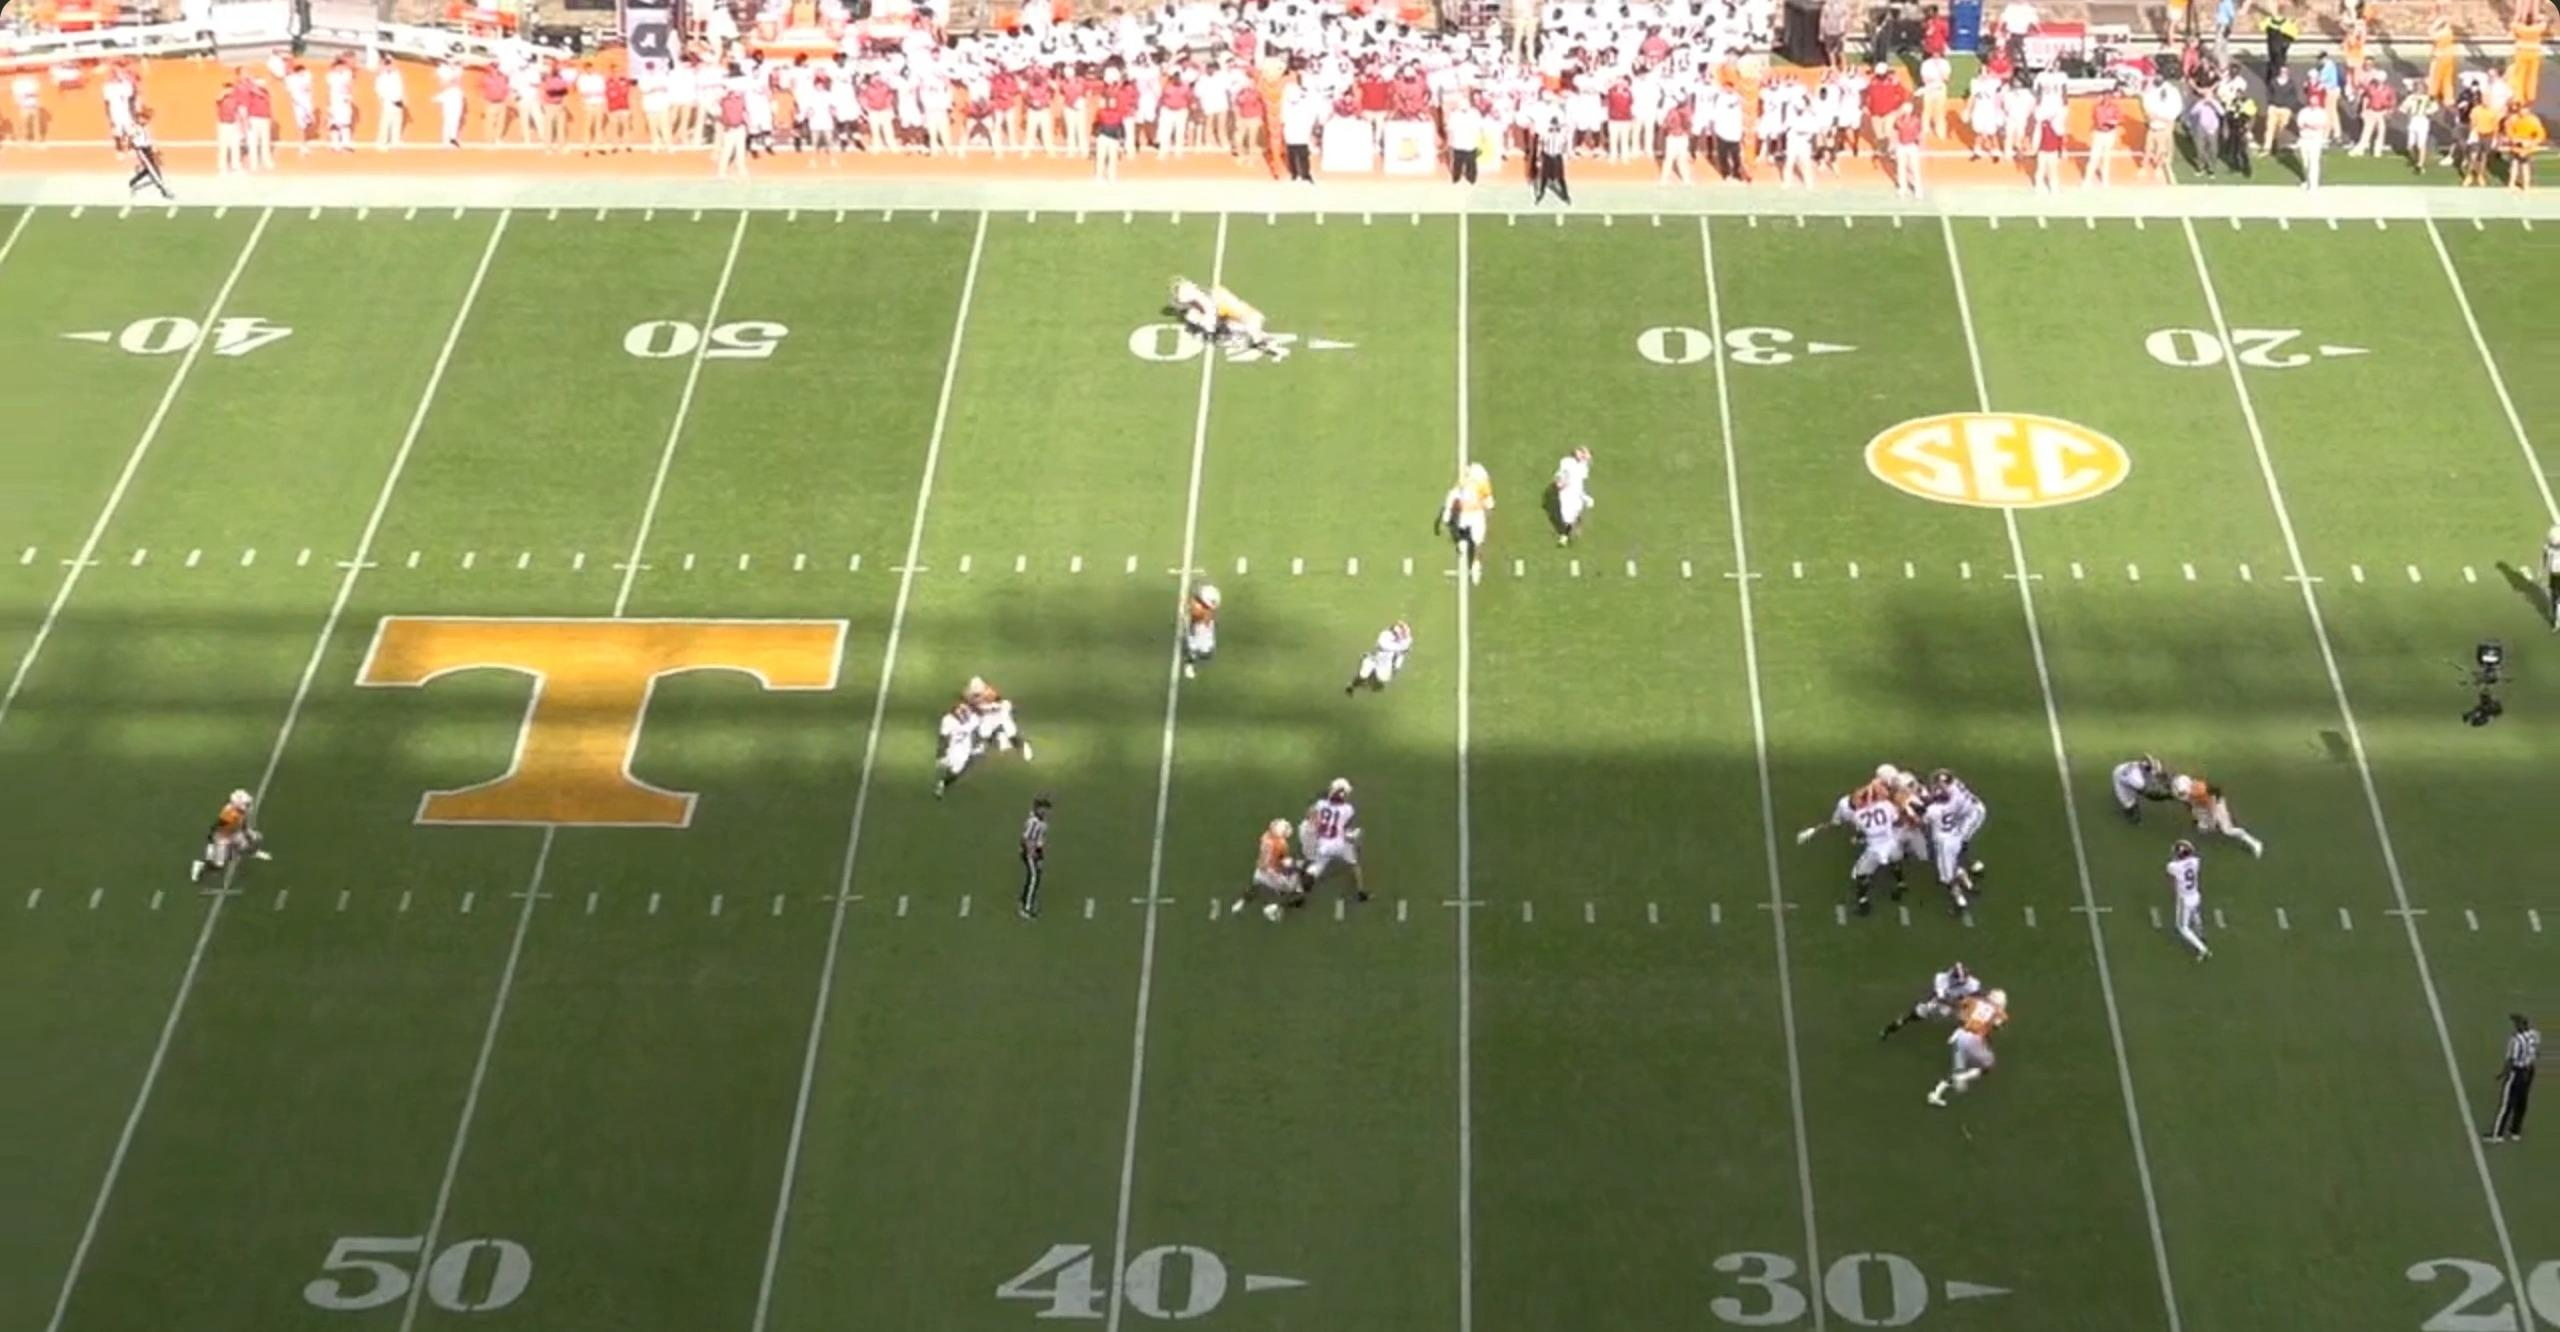defense: (1927, 977, 2017, 1112), (2179, 765, 2279, 861), (1236, 814, 1317, 926), (195, 790, 284, 890), (1439, 464, 1503, 574), (1796, 765, 1895, 836), (1202, 283, 1285, 364), (958, 672, 1029, 765), (1168, 577, 1221, 682), (1888, 768, 1934, 863)
oline: (1878, 956, 1976, 1048), (1903, 790, 1974, 916), (1928, 765, 1998, 883), (1854, 787, 1913, 921), (2106, 751, 2176, 828)
qb: (2159, 839, 2211, 975)
ref: (2487, 1007, 2548, 1146), (1002, 799, 1055, 931), (107, 110, 174, 201), (1524, 112, 1578, 206), (2538, 523, 2560, 645)
skill: (1297, 779, 1378, 911), (1542, 442, 1600, 552), (1339, 618, 1410, 704), (938, 701, 992, 807), (1168, 271, 1226, 349)
